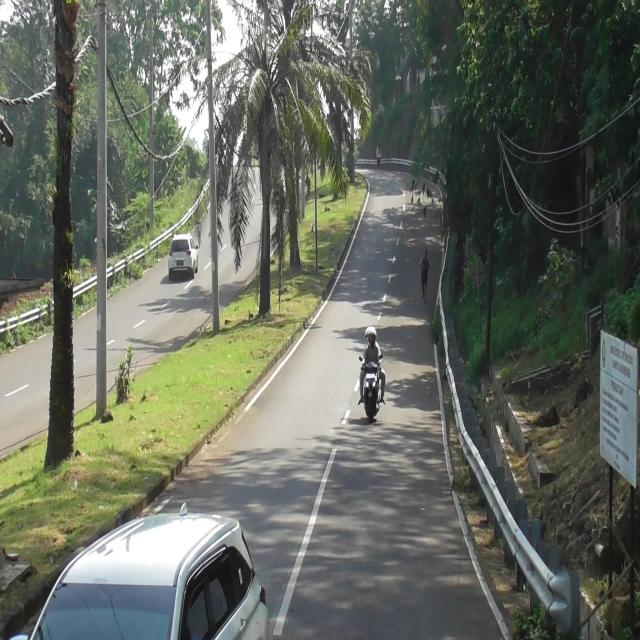motorcycle: (363, 361, 381, 421)
person: (365, 329, 382, 367), (365, 327, 370, 343)
rider_region: (362, 325, 385, 422)
